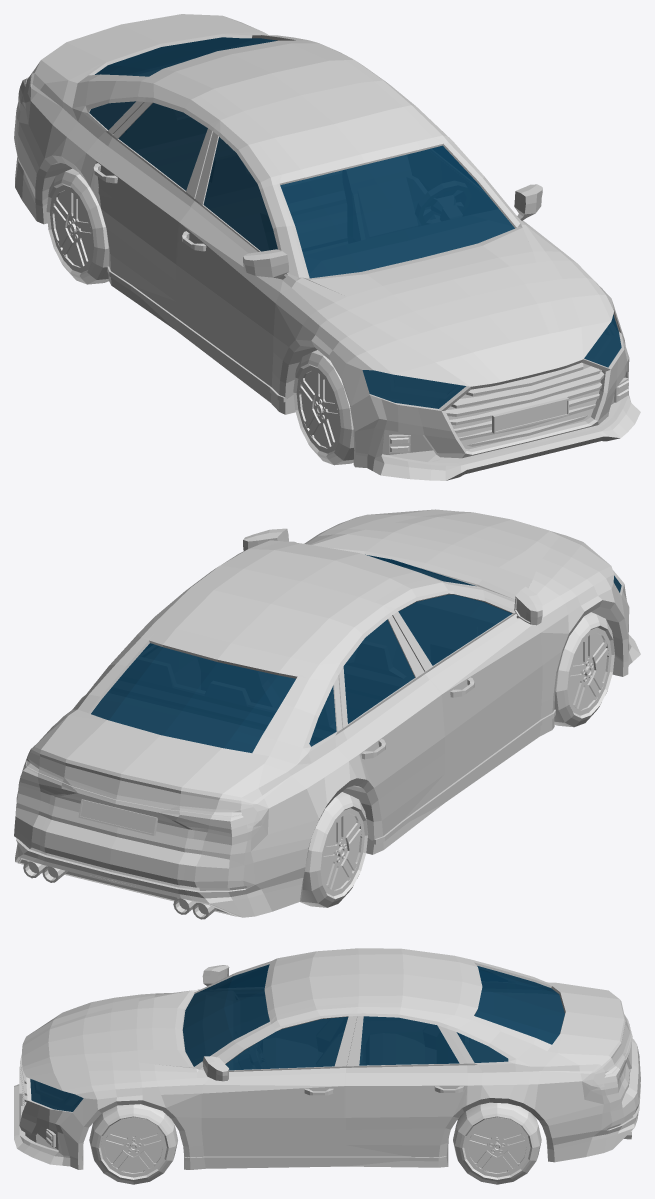
File: sedan_fixed_steering_seperate_wheels.fbx
3 renders of one model, top to bottom at view 1: azimuth 30°, elevation 25°; view 2: azimuth 150°, elevation 25°; view 3: azimuth 270°, elevation 25°, orthographic. The views are drawn at different scales.
Parts seen in each view (by area): view 1: sedan_steering_wheel_fixed, sedan_glass.001, sedan_wheel.004, sedan_wheel.005; view 2: sedan_steering_wheel_fixed, sedan_glass.001, sedan_wheel.004, sedan_wheel.005; view 3: sedan_steering_wheel_fixed, sedan_glass.001, sedan_wheel.006, sedan_wheel.007.
Part boxes in pixels (x1,y1,x2,y2): sedan_steering_wheel_fixed: [14, 14, 640, 480]; sedan_glass.001: [89, 37, 621, 408]; sedan_wheel.004: [46, 168, 108, 284]; sedan_wheel.005: [293, 350, 354, 465]; sedan_steering_wheel_fixed: [14, 509, 640, 919]; sedan_glass.001: [91, 554, 621, 752]; sedan_wheel.004: [300, 792, 368, 907]; sedan_wheel.005: [554, 612, 614, 727]; sedan_steering_wheel_fixed: [14, 948, 640, 1169]; sedan_glass.001: [30, 964, 564, 1111]; sedan_wheel.006: [453, 1102, 541, 1184]; sedan_wheel.007: [89, 1104, 177, 1184].
Size of the model in its own units: 314 by 226 by 777.
